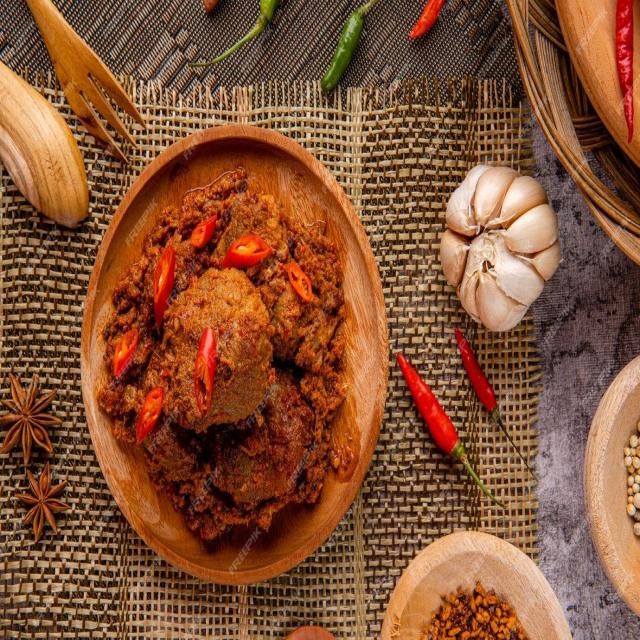Rendang: (88, 153, 387, 552)
